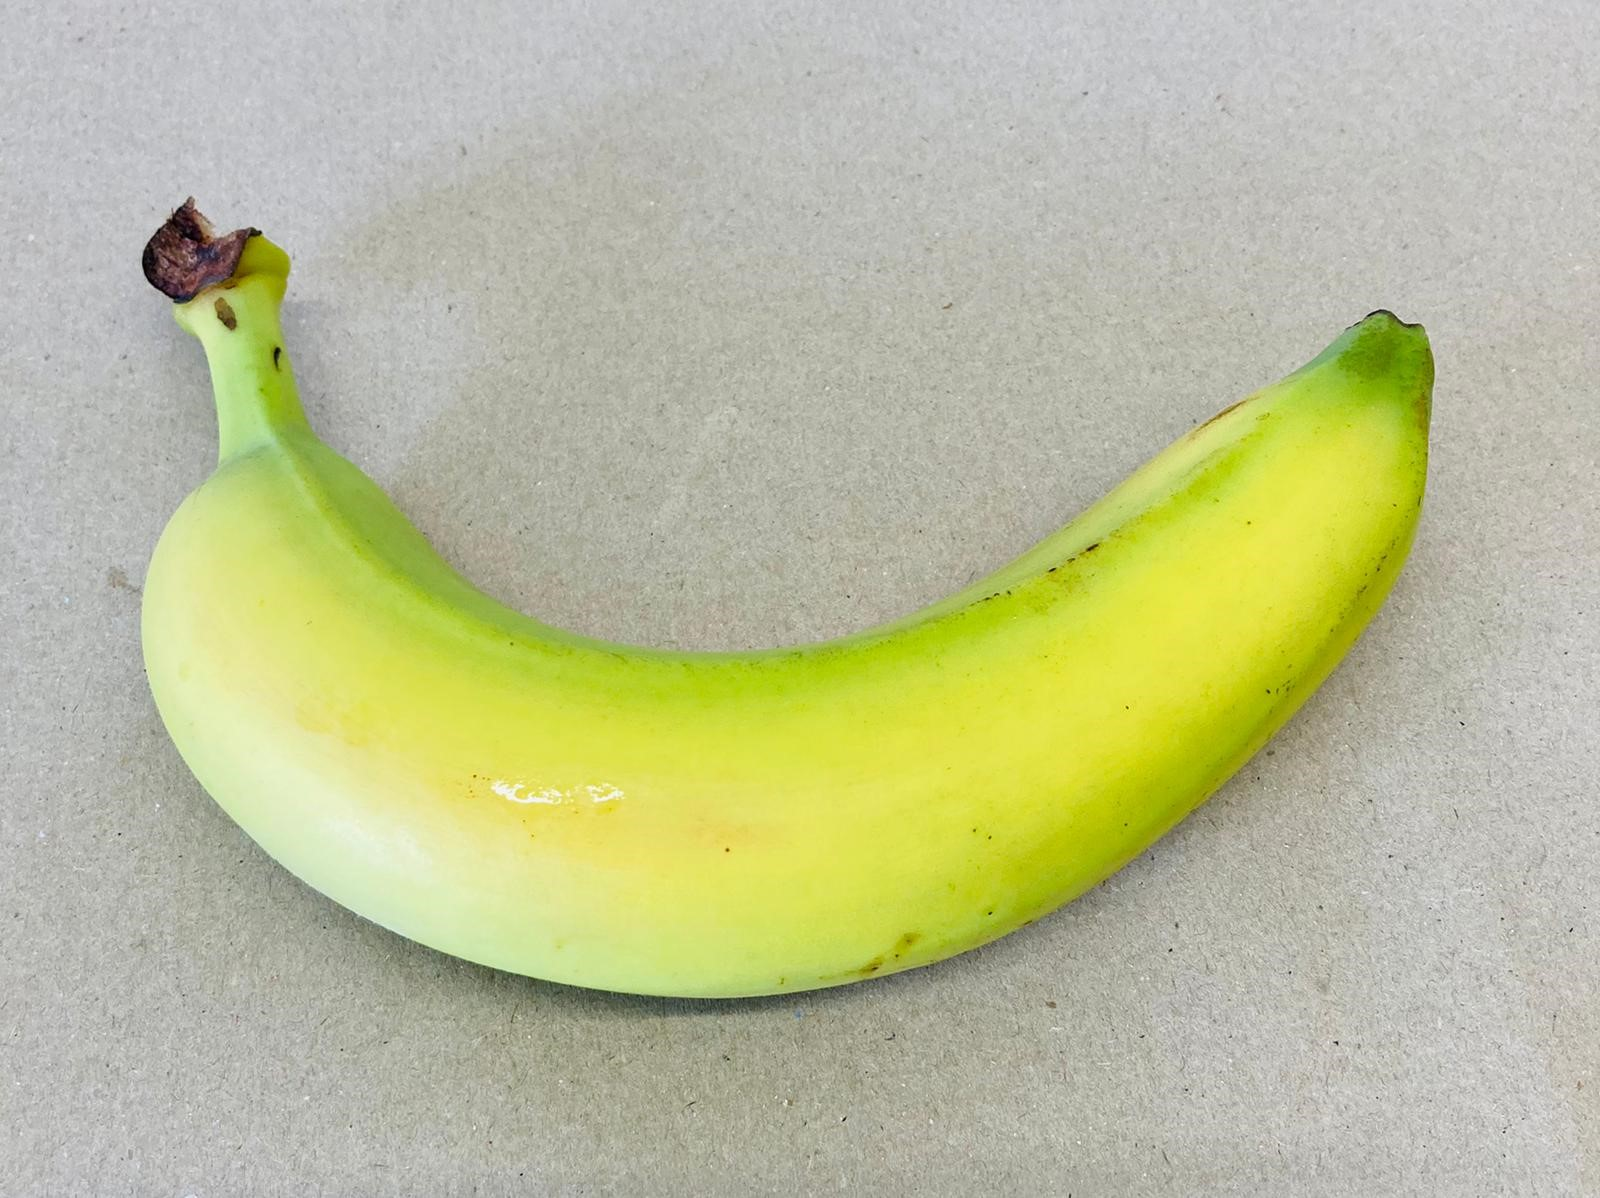banana: (106, 159, 1511, 1099)
